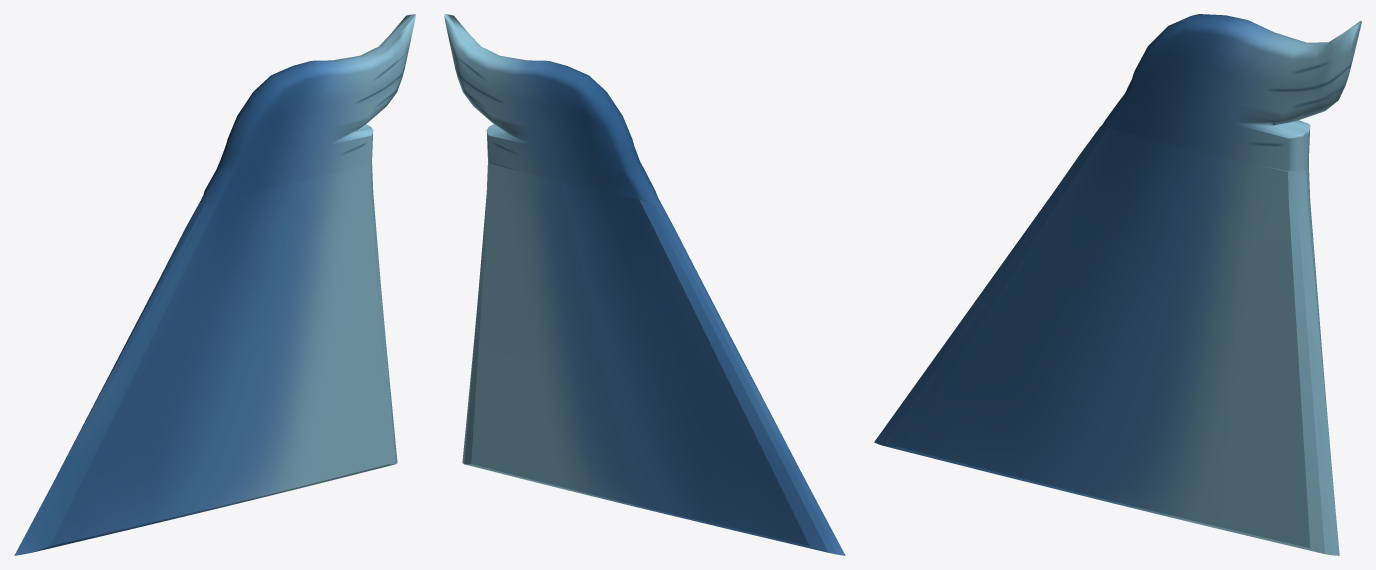
Rendered from SharkFin.fbx.
3 renders of one model, left to right at view 1: azimuth 30°, elevation 25°; view 2: azimuth 150°, elevation 25°; view 3: azimuth 330°, elevation 25°, orthographic. The views are drawn at different scales.
Parts seen in each view (by area): view 1: pCube1; view 2: pCube1; view 3: pCube1.
Boxes of the visible parts, x1=… form: pCube1: x1=14, y1=14, x2=415, y2=555; pCube1: x1=444, y1=14, x2=845, y2=555; pCube1: x1=874, y1=14, x2=1361, y2=555.
Bounding box in the file's own units: 55.59 × 58.72 × 4.46.
Materials: 1 (1 with a texture image).
